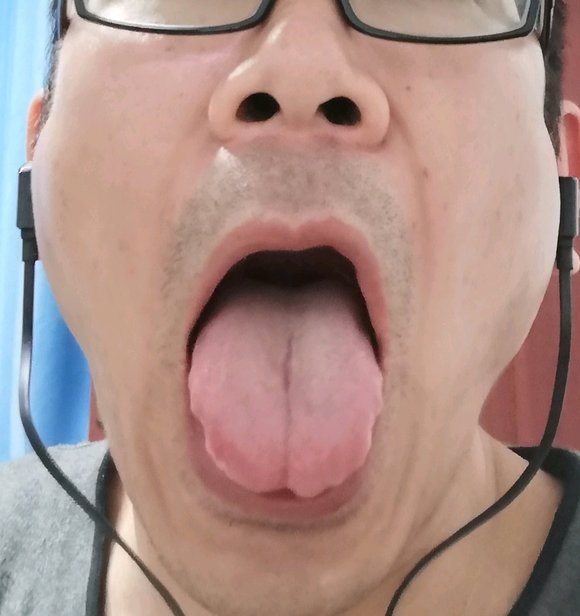chihenshe: (338, 385, 383, 485), (187, 377, 225, 475)
liewenshe: (280, 330, 296, 395)
pangdashe: (188, 277, 383, 499)
xinfeiao: (257, 478, 310, 499)
